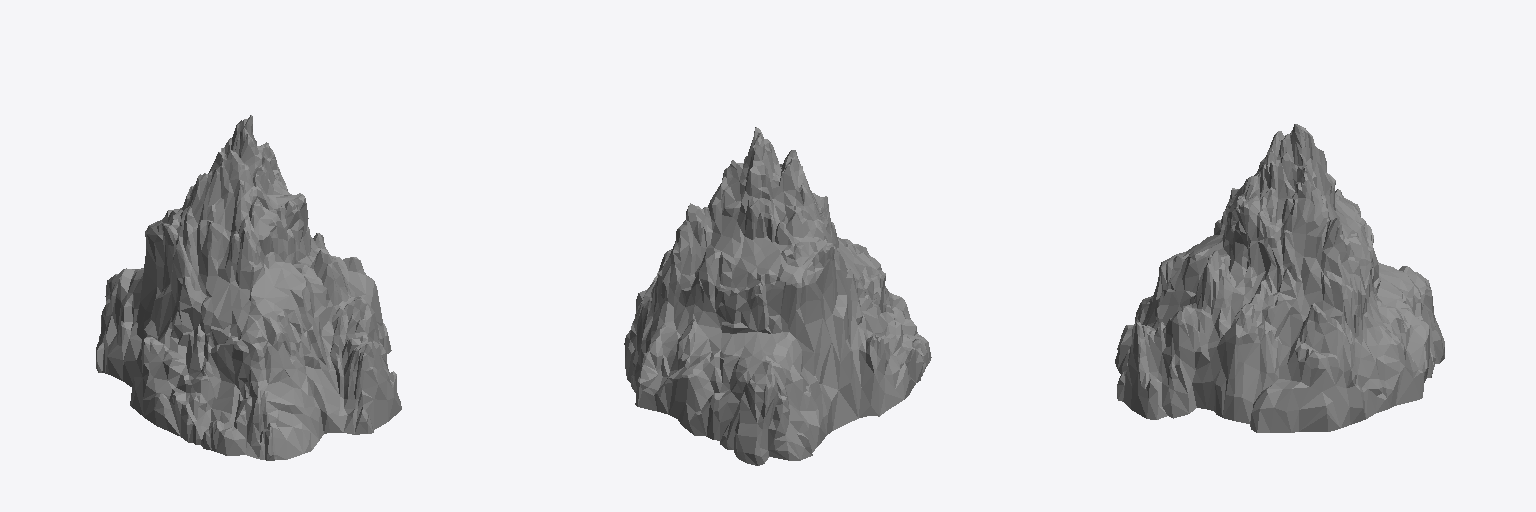
Rendered from mountainPeak.obj.
3 renders of one model, left to right at view 1: azimuth 30°, elevation 25°; view 2: azimuth 150°, elevation 25°; view 3: azimuth 270°, elevation 25°, orthographic.
Parts seen in each view (by area): view 1: MountainPeak02_0; view 2: MountainPeak02_0; view 3: MountainPeak02_0.
Part boxes in pixels (x1,y1,x2,y2): MountainPeak02_0: (96,115,401,460); MountainPeak02_0: (624,127,931,465); MountainPeak02_0: (1115,124,1444,432).
Bounding box in the file's own units: 8312 × 8581 × 9582.